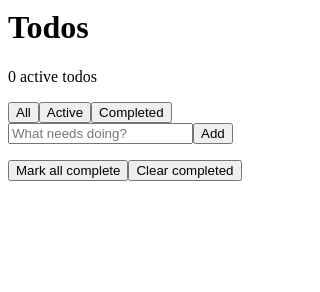
Scenario: TodoApp active count › counts only the incomplete todos
In the field named "New todo": (100, 133) left=8, top=123, right=193, bottom=144, type "Buy milk"
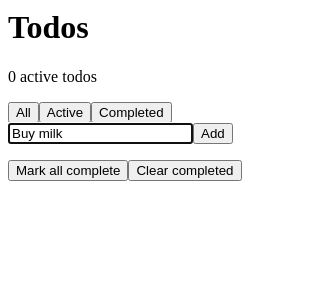
Click the button "Add": (213, 133) left=193, top=123, right=233, bottom=144
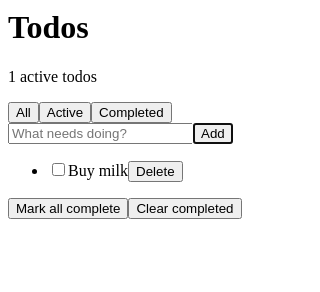
In the field named "New todo": (100, 133) left=8, top=123, right=193, bottom=144, type "Walk dog"
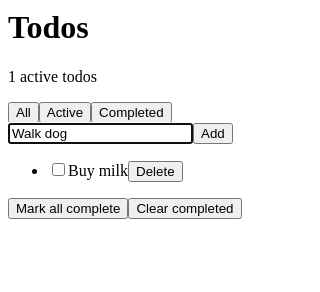
Click the button "Add": (213, 133) left=193, top=123, right=233, bottom=144
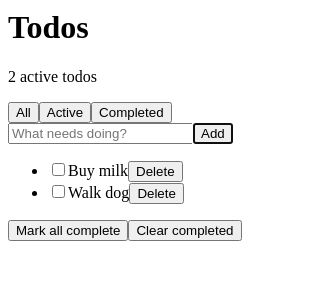
Expected: the text "2 active todos" is shown, left=8, top=68, right=97, bottom=85
Click the checkbox labelled "Buy milk": (58, 169) left=52, top=163, right=65, bottom=176
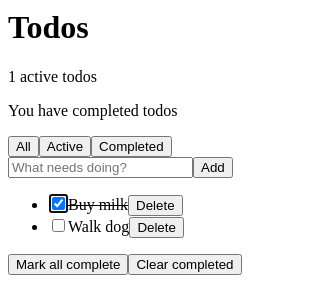
Expected: the text "1 active todos" is shown, left=8, top=68, right=97, bottom=85
